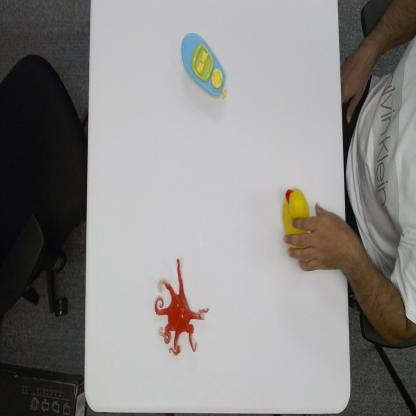Boat: (180, 30, 230, 101)
Duck: (281, 185, 310, 238)
Hand: (284, 198, 356, 273)
Octopus: (153, 256, 210, 358)
